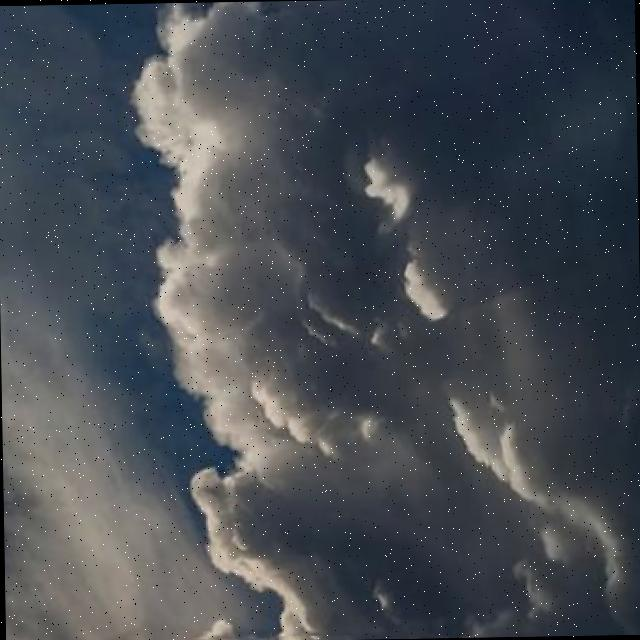Ns: (109, 1, 640, 612)
